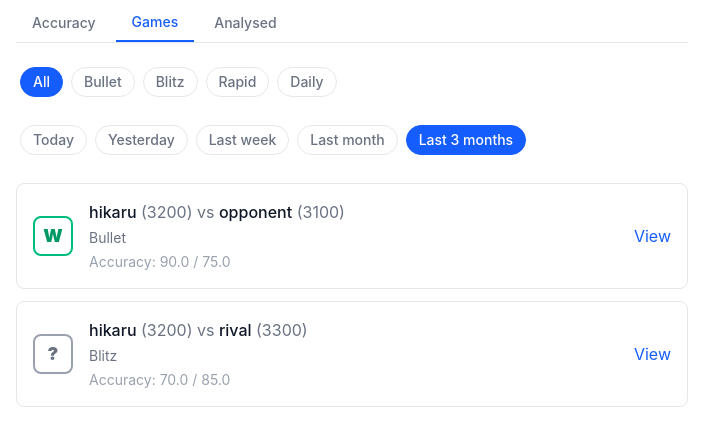
Test: PlayerPage › filters games list by time class
Check: the number of list items is 2, box [16, 183, 688, 289]; [16, 301, 688, 407]
Click the button "Blitz": x=170, y=82 [143, 67, 198, 97]
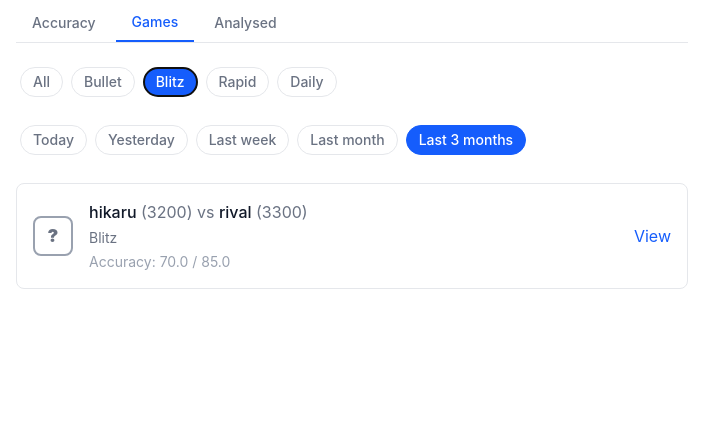
Check: the text "rival" is shown, box [219, 202, 252, 222]
Check: the number of list items is 1, box [16, 183, 688, 289]
